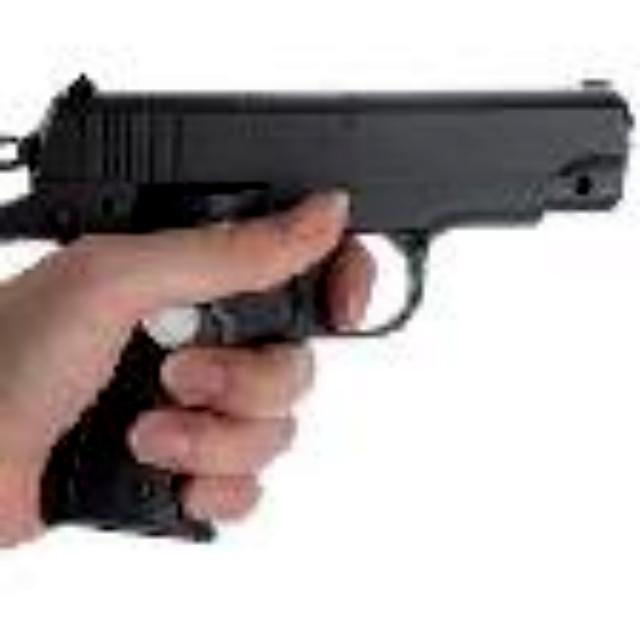pistol: (0, 78, 640, 554), (0, 74, 634, 549)
